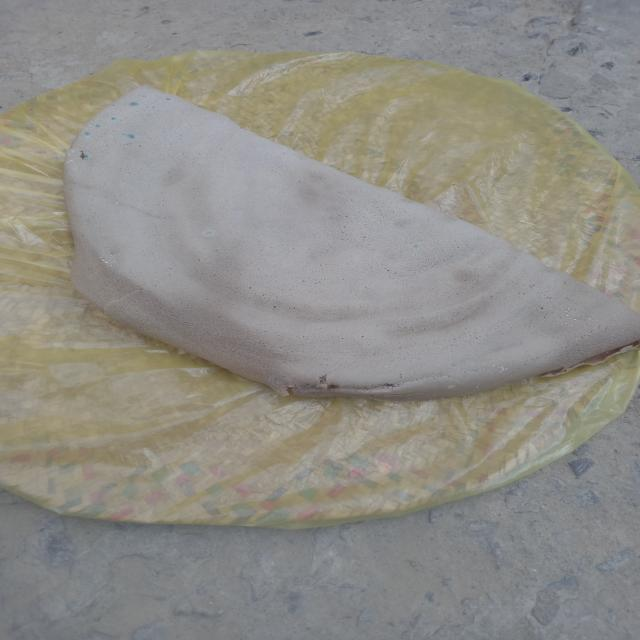injera_mold: (82, 153, 88, 160), (131, 102, 140, 106), (128, 134, 135, 139), (205, 231, 212, 236), (94, 124, 102, 128), (501, 367, 508, 371), (112, 104, 118, 108), (448, 385, 454, 389), (100, 256, 104, 262), (110, 117, 117, 120), (85, 132, 90, 136), (164, 98, 173, 100), (122, 132, 126, 136), (68, 160, 74, 162), (414, 245, 418, 248), (68, 153, 72, 155), (126, 93, 130, 95), (492, 364, 496, 366), (566, 315, 570, 317), (142, 95, 148, 96), (499, 371, 502, 373), (574, 318, 576, 321), (570, 324, 573, 326), (105, 261, 107, 264), (118, 254, 121, 256), (70, 151, 75, 152), (78, 144, 80, 146), (88, 136, 90, 138), (152, 107, 156, 108), (476, 387, 480, 388), (566, 308, 570, 309), (564, 323, 568, 324), (111, 265, 113, 267), (66, 162, 69, 163), (565, 311, 567, 312), (570, 318, 572, 319), (589, 318, 590, 320), (110, 255, 112, 256), (114, 262, 118, 262)
